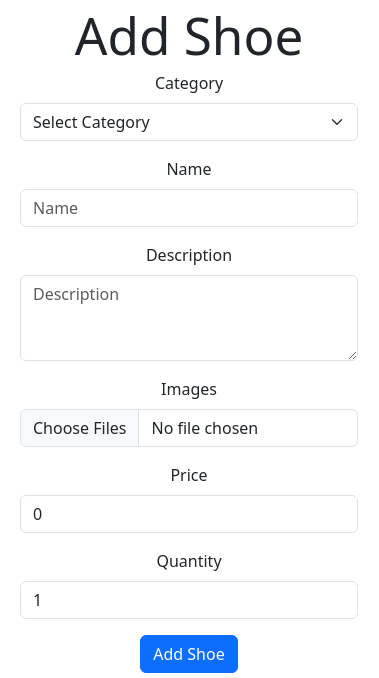
Test: AddShoe Component › displays error messages for required fields when submitted empty
Note: Click the submit button without filling out any fields
Click the button "Add Shoe" at (189, 654), box [140,635,238,673]
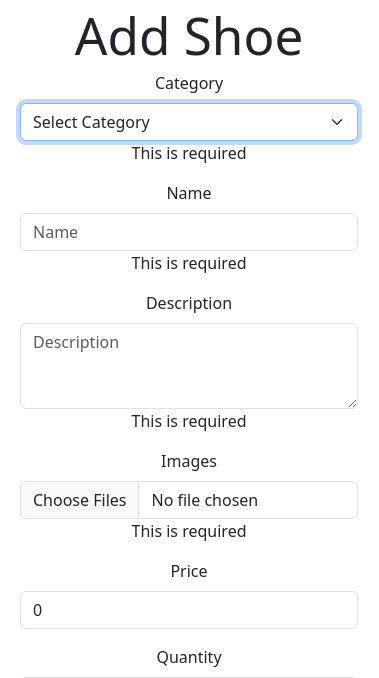
Result: the text "This is required" is shown 4 times at [132,142,246,164]; [132,252,246,274]; [132,410,246,432]; [132,520,246,542]
